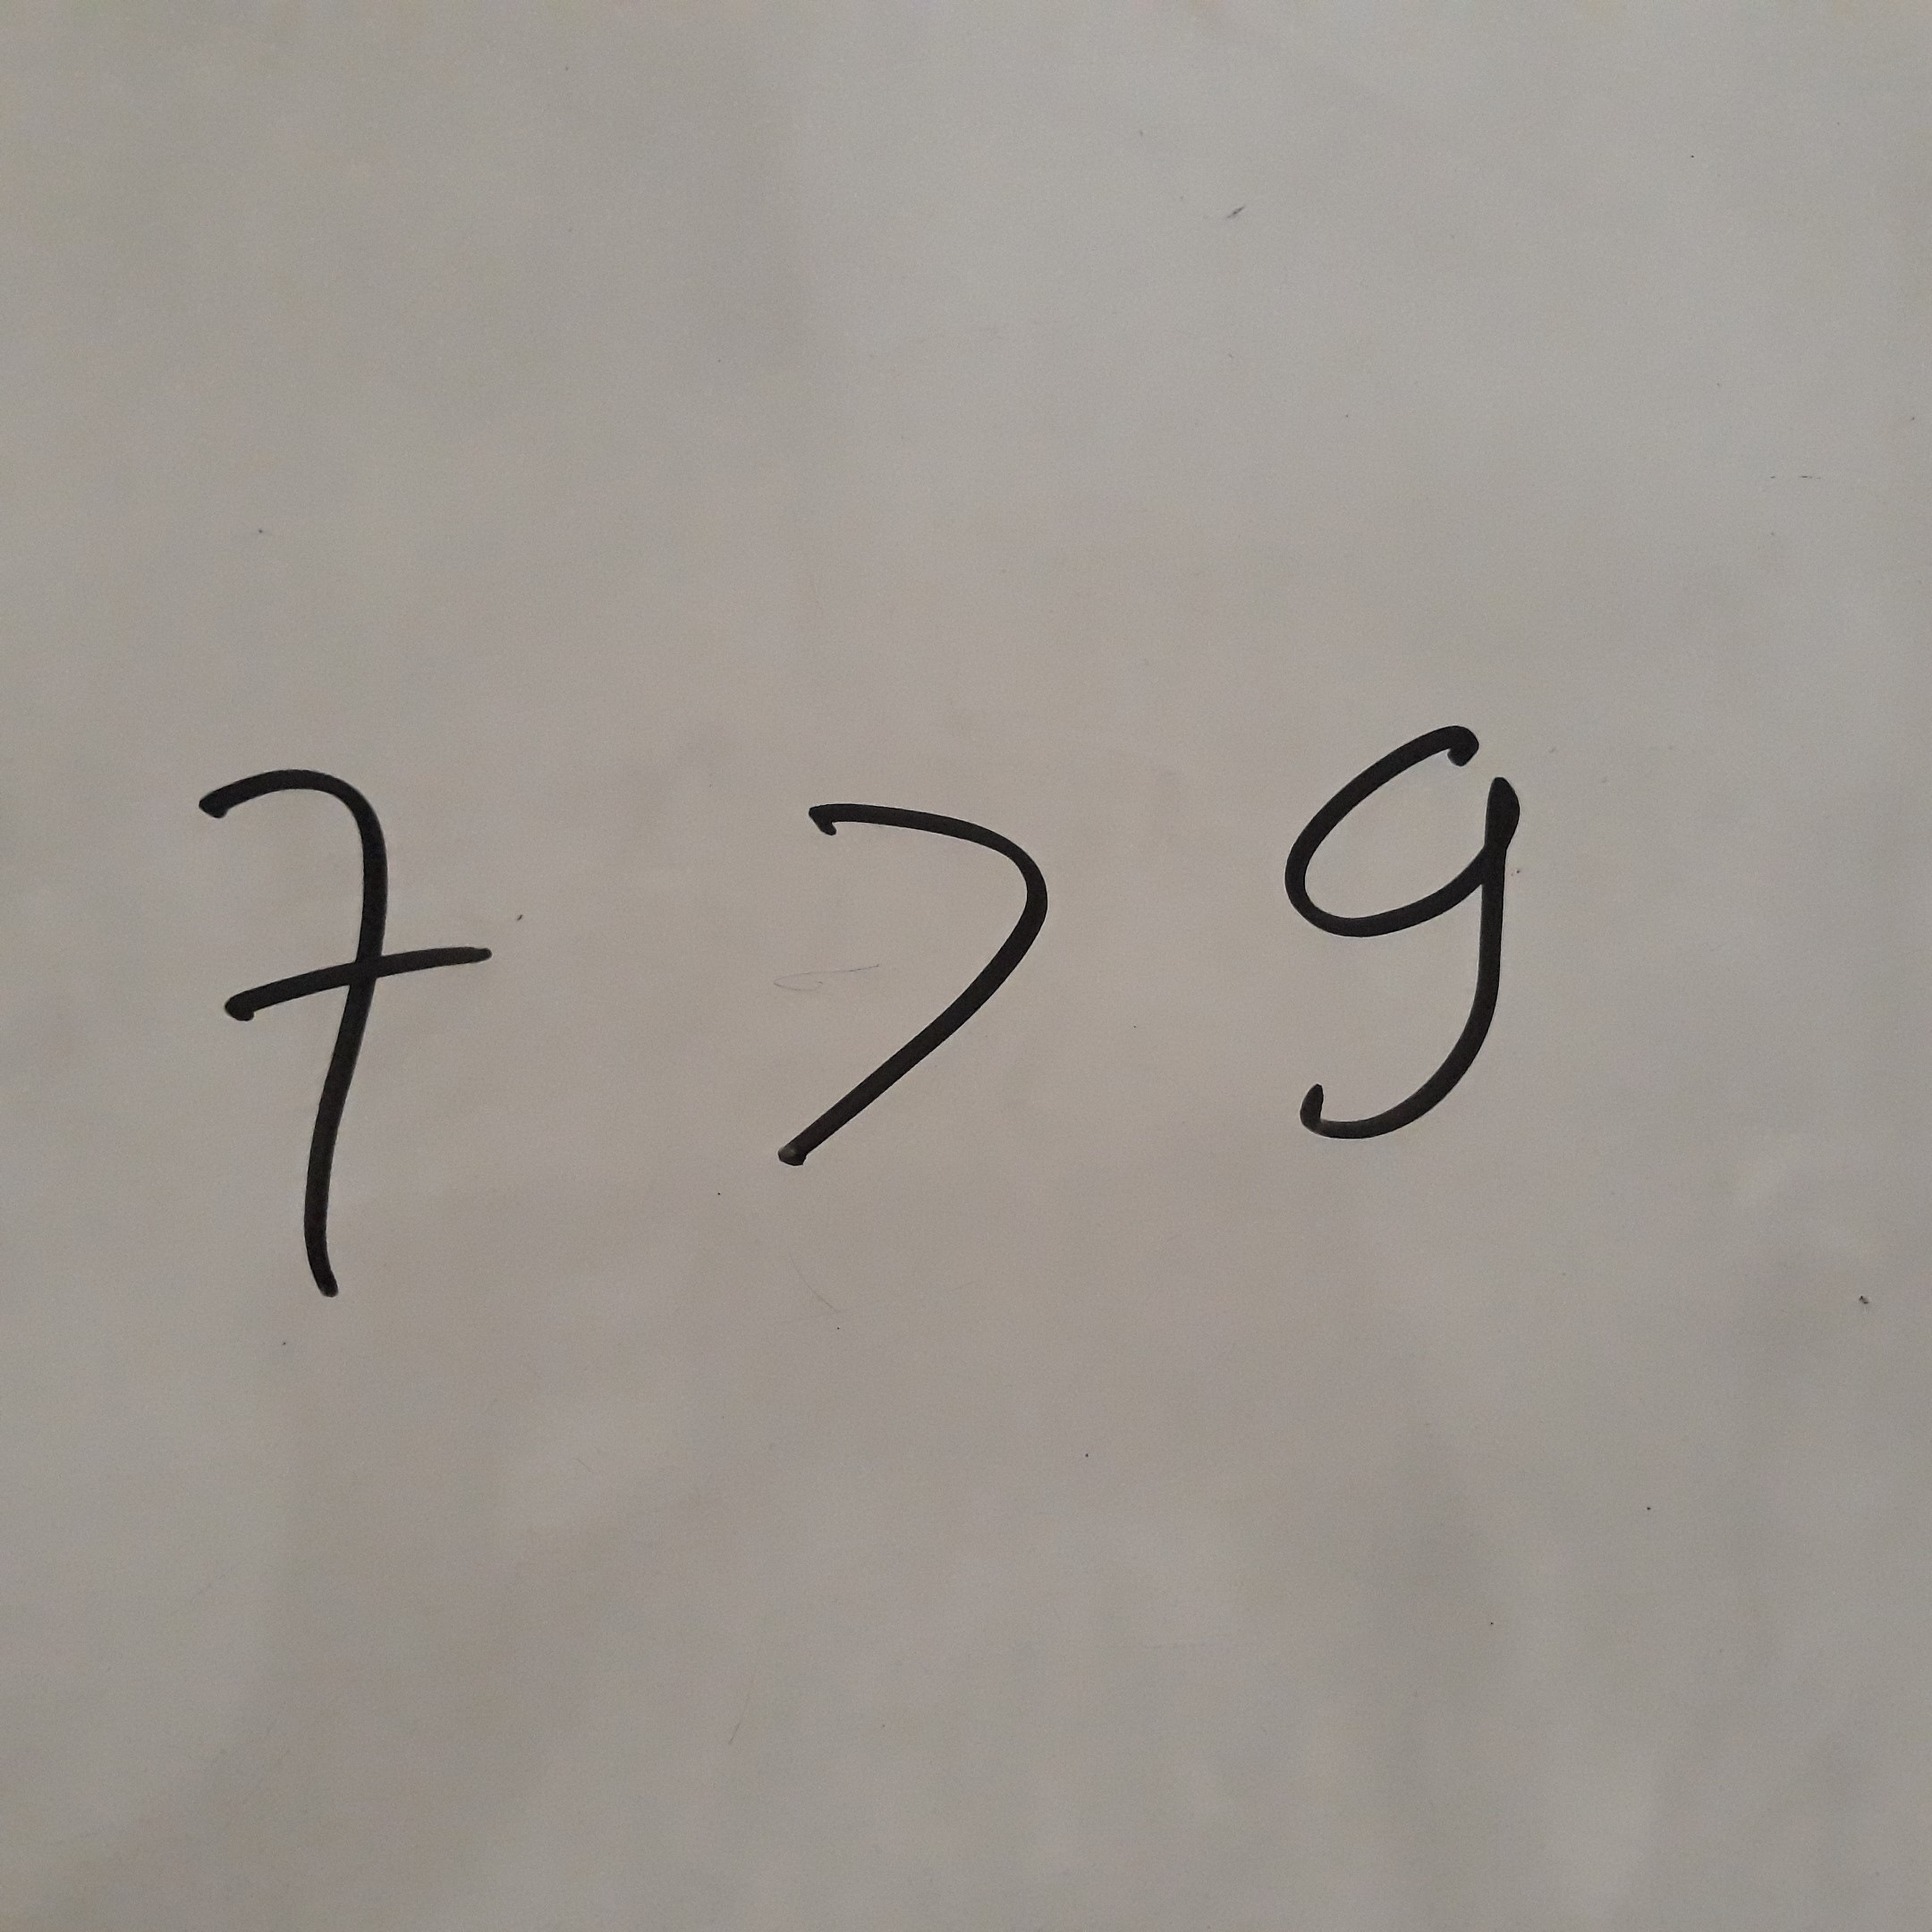morethan: (727, 663, 1099, 1260)
num7: (142, 732, 514, 1329)
num9: (1206, 646, 1578, 1243)
